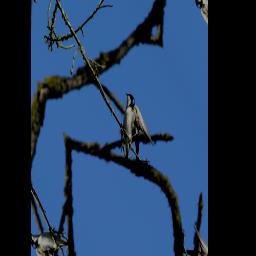Swallow: (105, 87, 157, 177)
